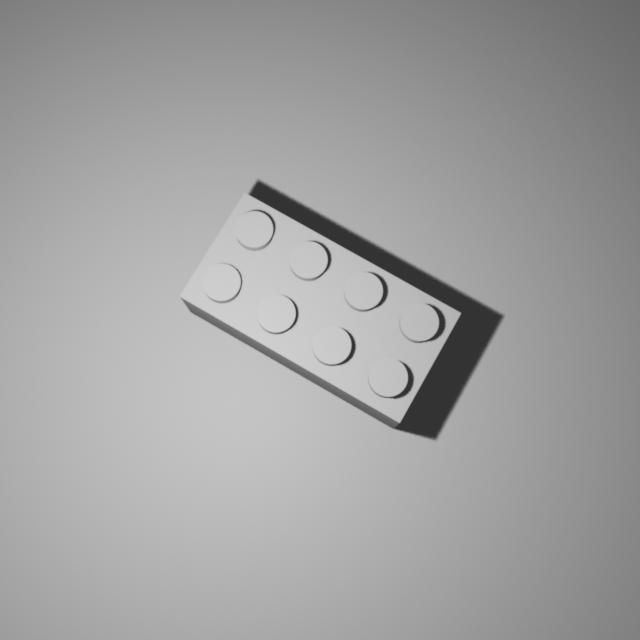lego_2x4: (178, 188, 463, 429)
